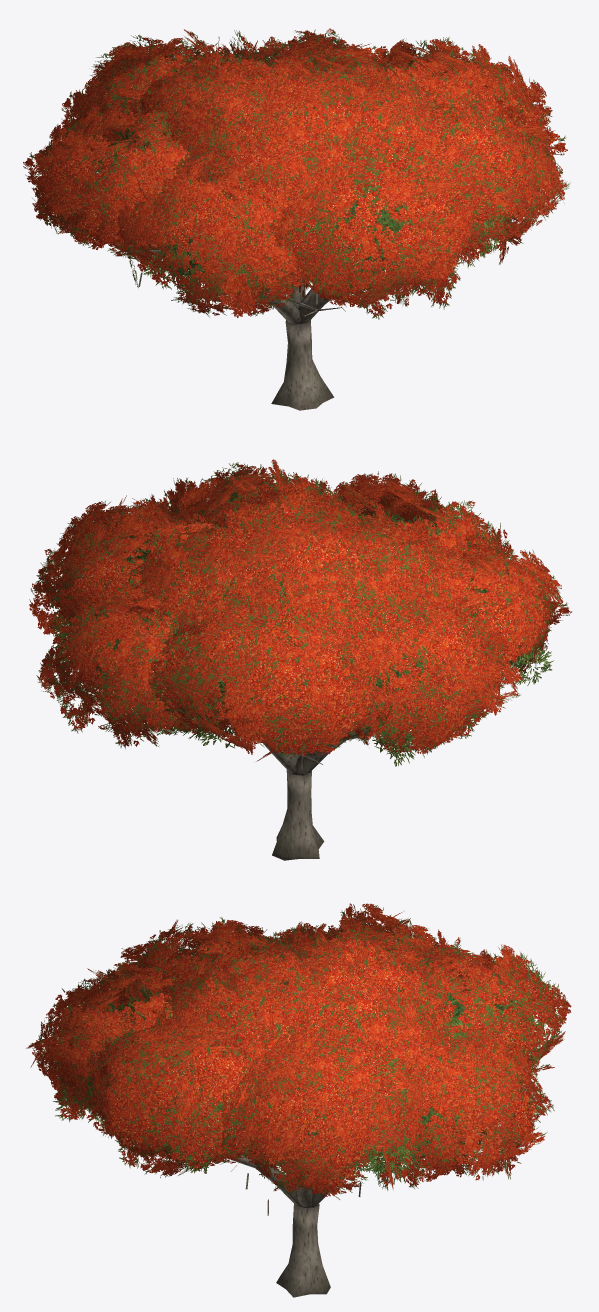
File: tree_krishnachura.glb
The picture shows the model from 3 angles, top to bottom: view 1: azimuth 30°, elevation 25°; view 2: azimuth 150°, elevation 25°; view 3: azimuth 270°, elevation 25°; orthographic projection.
Visible parts, largest first — view 1: leaves, trunk; view 2: leaves, trunk; view 3: leaves, trunk.
Part boxes in pixels (box(x1,y1,x2,y2)): leaves: box(23, 28, 570, 319); trunk: box(67, 232, 488, 410); leaves: box(29, 459, 571, 766); trunk: box(211, 675, 525, 860); leaves: box(26, 903, 571, 1199); trunk: box(90, 1114, 467, 1297).
Bounding box in the file's own units: 17.02 × 11.39 × 16.83.
2 materials, 2 textured.
